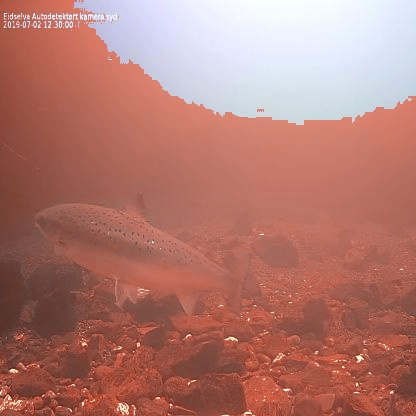salmon: (30, 189, 259, 322)
